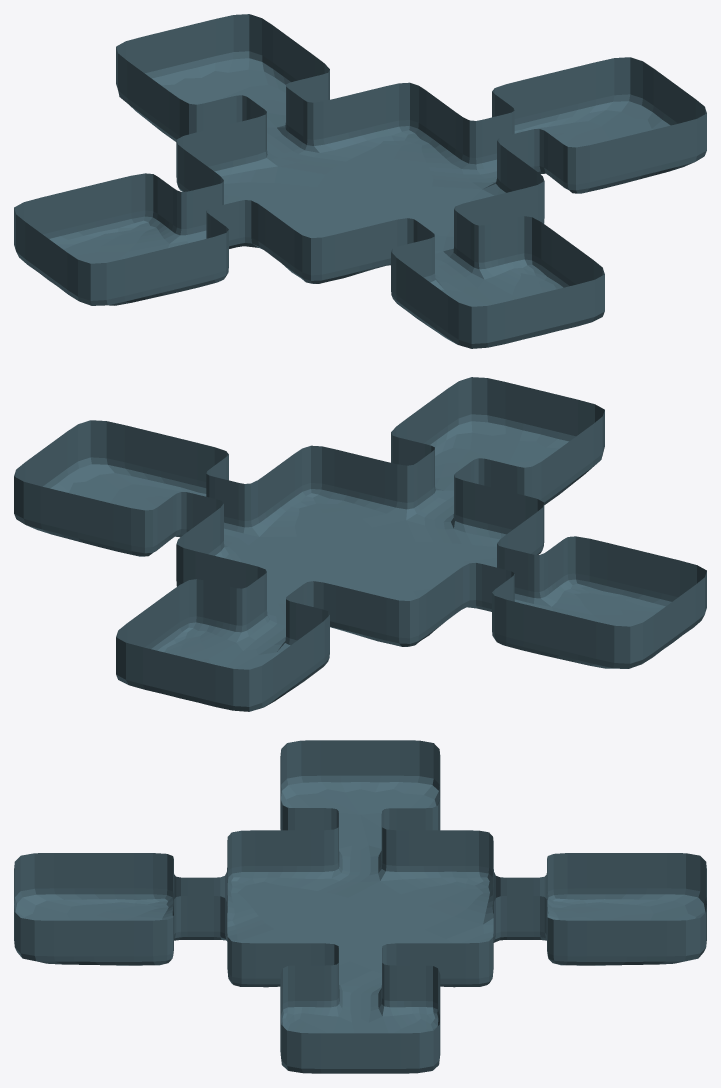
Rendered from Cave2.fbx.
3 renders of one model, top to bottom at view 1: azimuth 30°, elevation 25°; view 2: azimuth 150°, elevation 25°; view 3: azimuth 270°, elevation 25°, orthographic. The views are drawn at different scales.
Parts seen in each view (by area): view 1: Level.002; view 2: Level.002; view 3: Level.002.
Part boxes in pixels (bbox=[...]): Level.002: bbox=[14, 14, 706, 348]; Level.002: bbox=[14, 377, 706, 711]; Level.002: bbox=[14, 740, 706, 1073].
Size of the model in its own units: 12101 by 912 by 12088.
